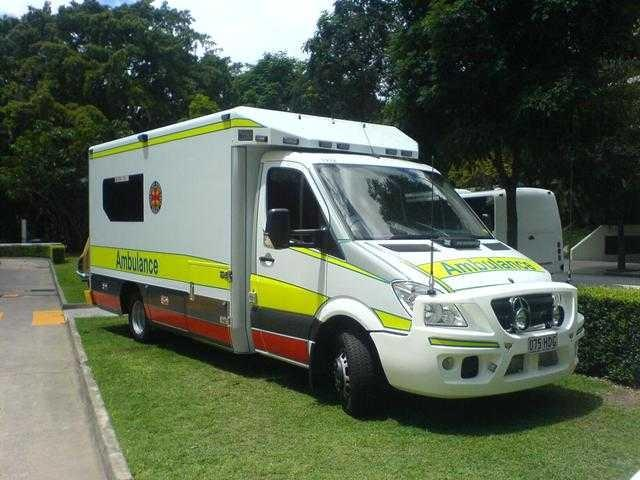car: (76, 105, 585, 418)
